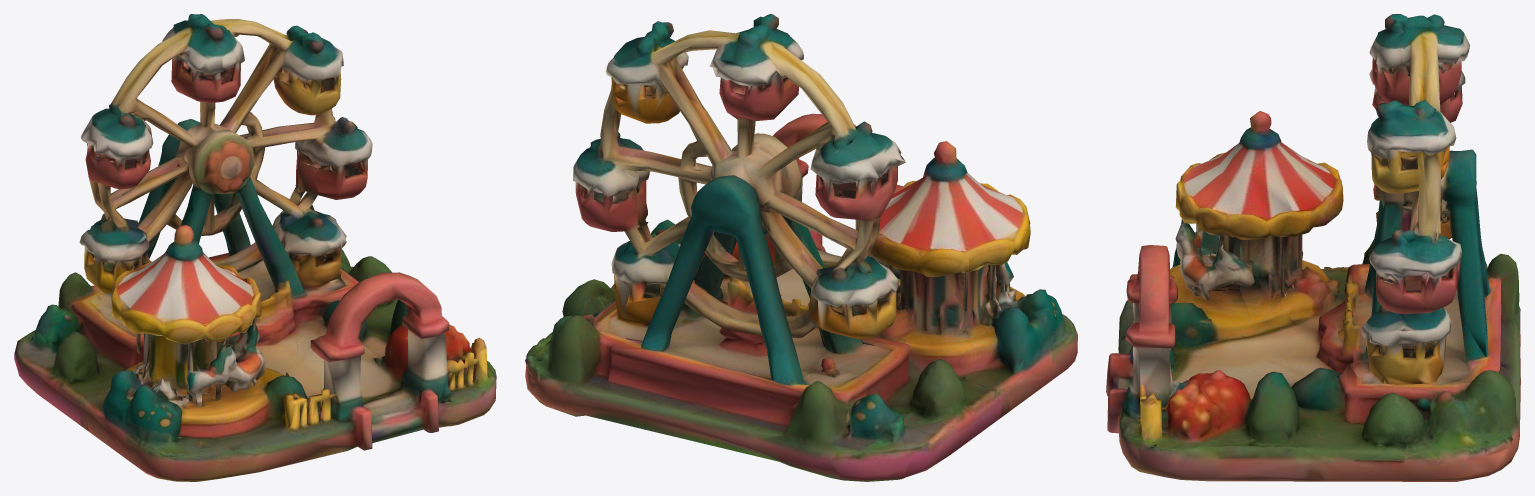
Rendered from facility-amusement-park.glb.
3 renders of one model, left to right at view 1: azimuth 30°, elevation 25°; view 2: azimuth 150°, elevation 25°; view 3: azimuth 270°, elevation 25°, orthographic. The views are drawn at different scales.
Parts seen in each view (by area): view 1: Mesh_0; view 2: Mesh_0; view 3: Mesh_0.
Part boxes in pixels (x1=…): Mesh_0: x1=14, y1=14, x2=496, y2=481; Mesh_0: x1=525, y1=14, x2=1077, y2=481; Mesh_0: x1=1106, y1=14, x2=1520, y2=481.
Bounding box in the file's own units: 2 × 1.86 × 1.87.
1 material, 1 textured.
